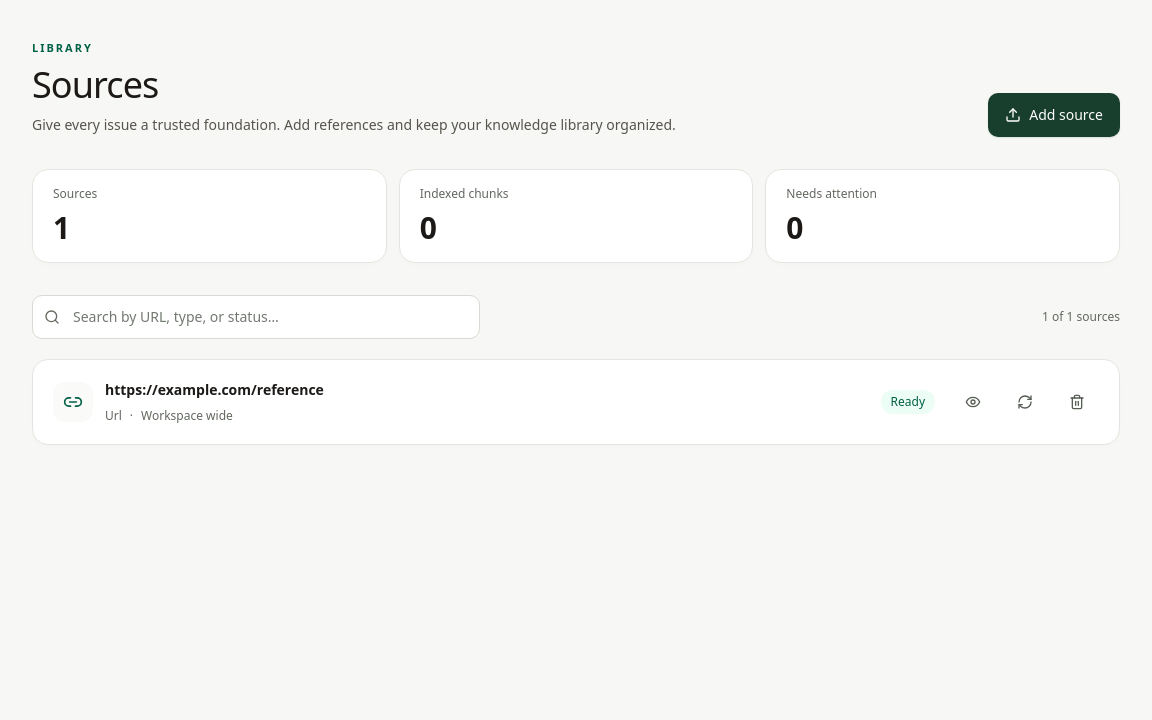
Test: requires confirmation before deleting a source and preserves it after a failed delete
Click the button named "Delete https://example.com/reference".
click(1077, 402)  # box [1055,380,1099,424]
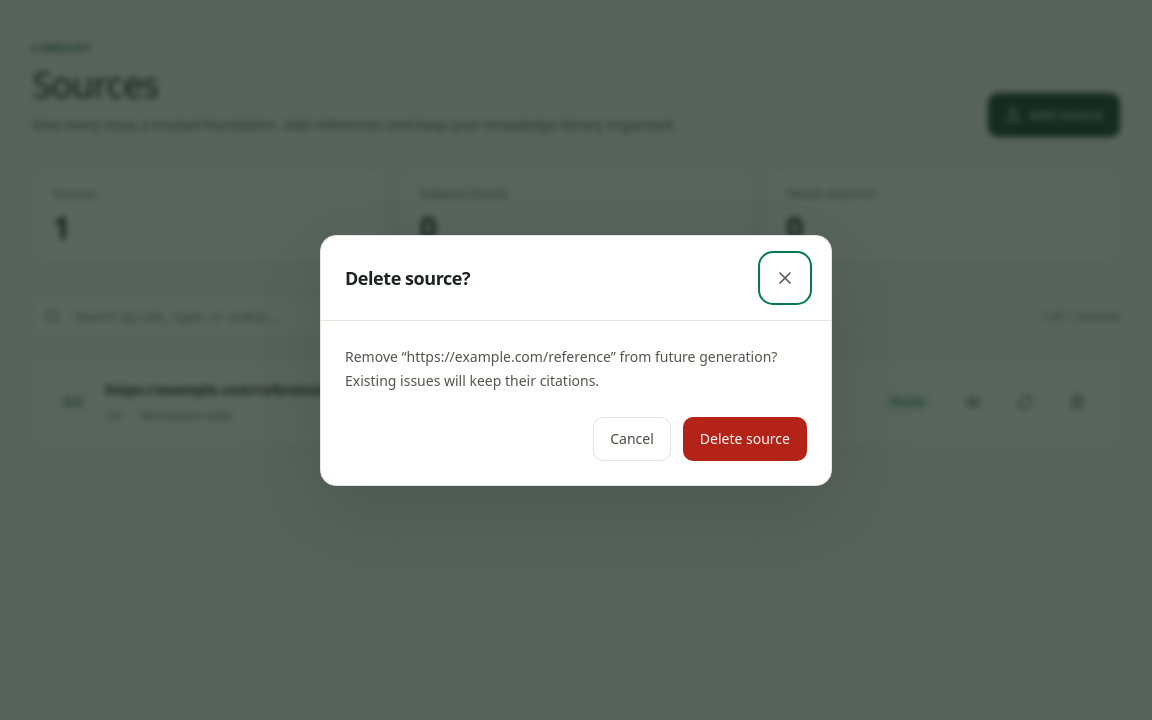
Click the button "Delete source".
click(745, 438)  # box [683,416,807,460]
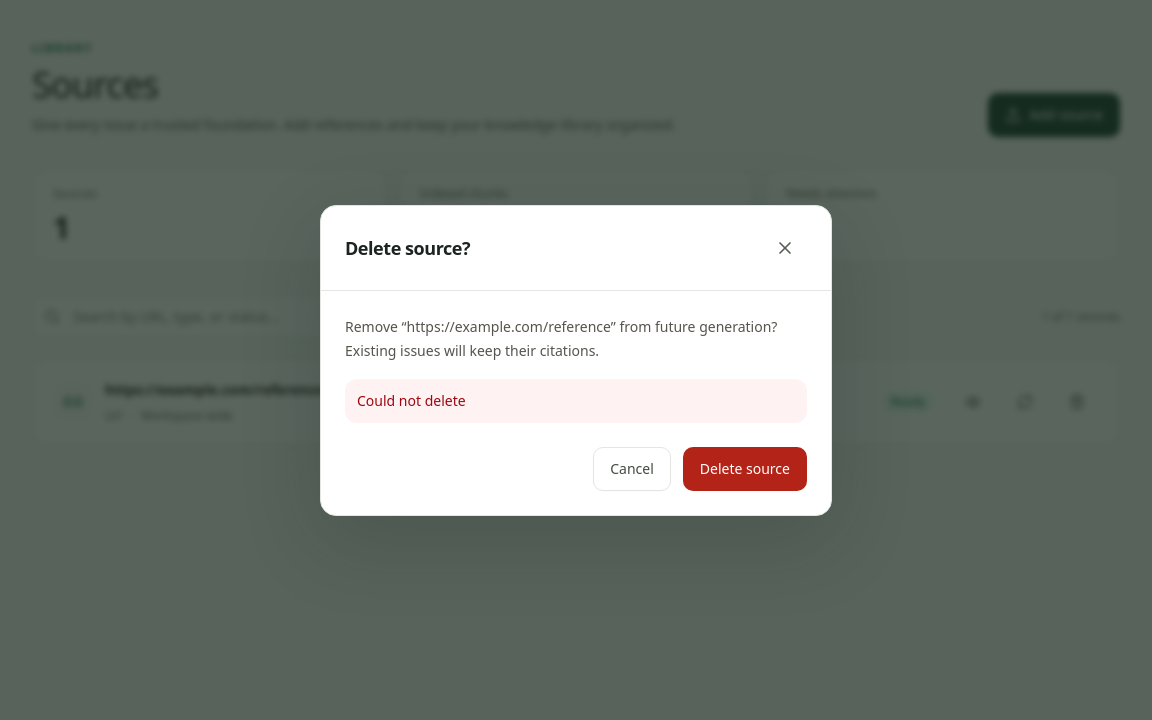
Expected: the heading "https://example.com/reference" is shown, [105,380,324,400]
Expected: the message reads "Could not delete", [357,390,466,410]
